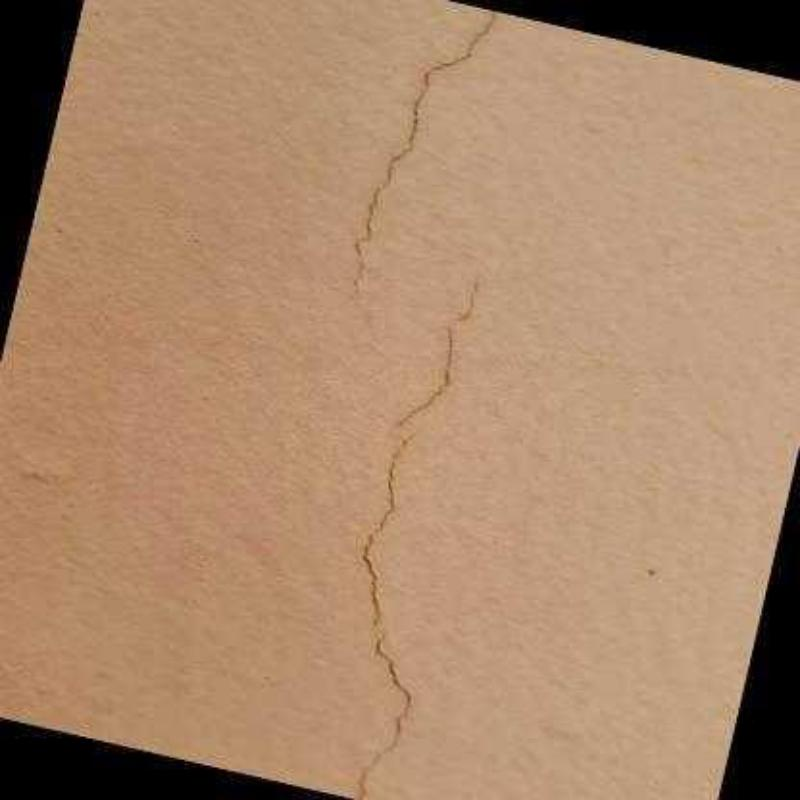pothole: (340, 281, 477, 800), (346, 8, 499, 293)
